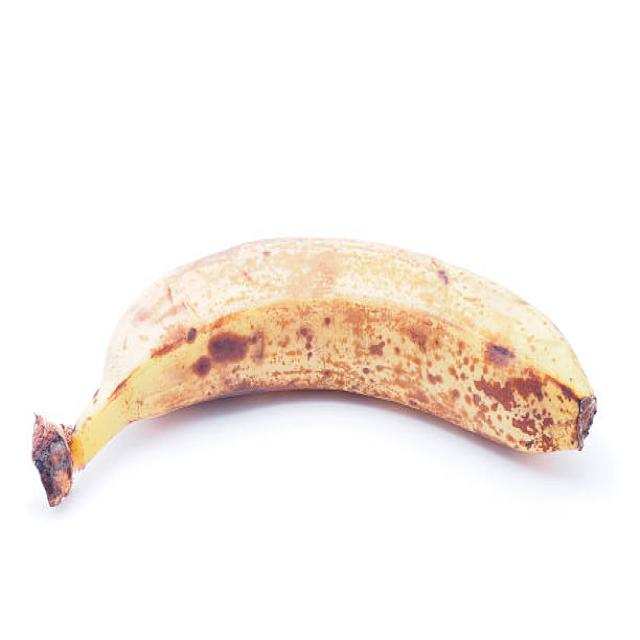overripe: (30, 233, 603, 508)
